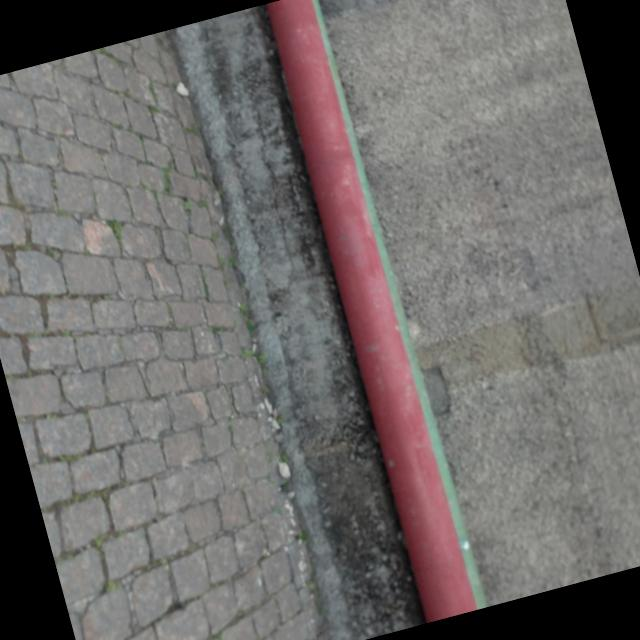gas: (257, 0, 478, 623)
